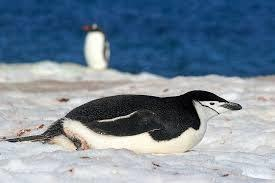chinstrap: (9, 77, 249, 163)
